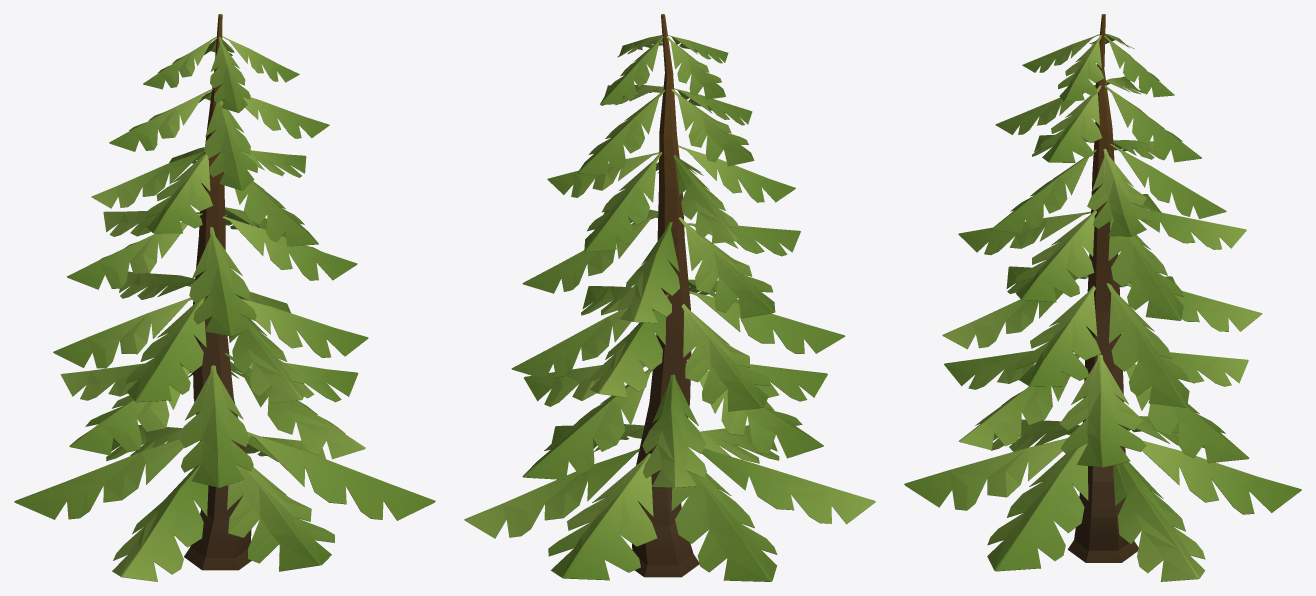
The model's file is Tree_06.obj.
3 views of the same model, side by side, from view 1: azimuth 30°, elevation 25°; view 2: azimuth 150°, elevation 25°; view 3: azimuth 270°, elevation 25° (orthographic). The views are drawn at different scales.
Visible parts, largest first — view 1: Tree_06; view 2: Tree_06; view 3: Tree_06.
Part boxes in pixels (bbox=[...]): Tree_06: bbox=[14, 14, 435, 581]; Tree_06: bbox=[464, 14, 875, 581]; Tree_06: bbox=[904, 14, 1301, 581].
Bounding box in the file's own units: 2.69 × 4.38 × 2.95.
Materials: 1 (1 with a texture image).
